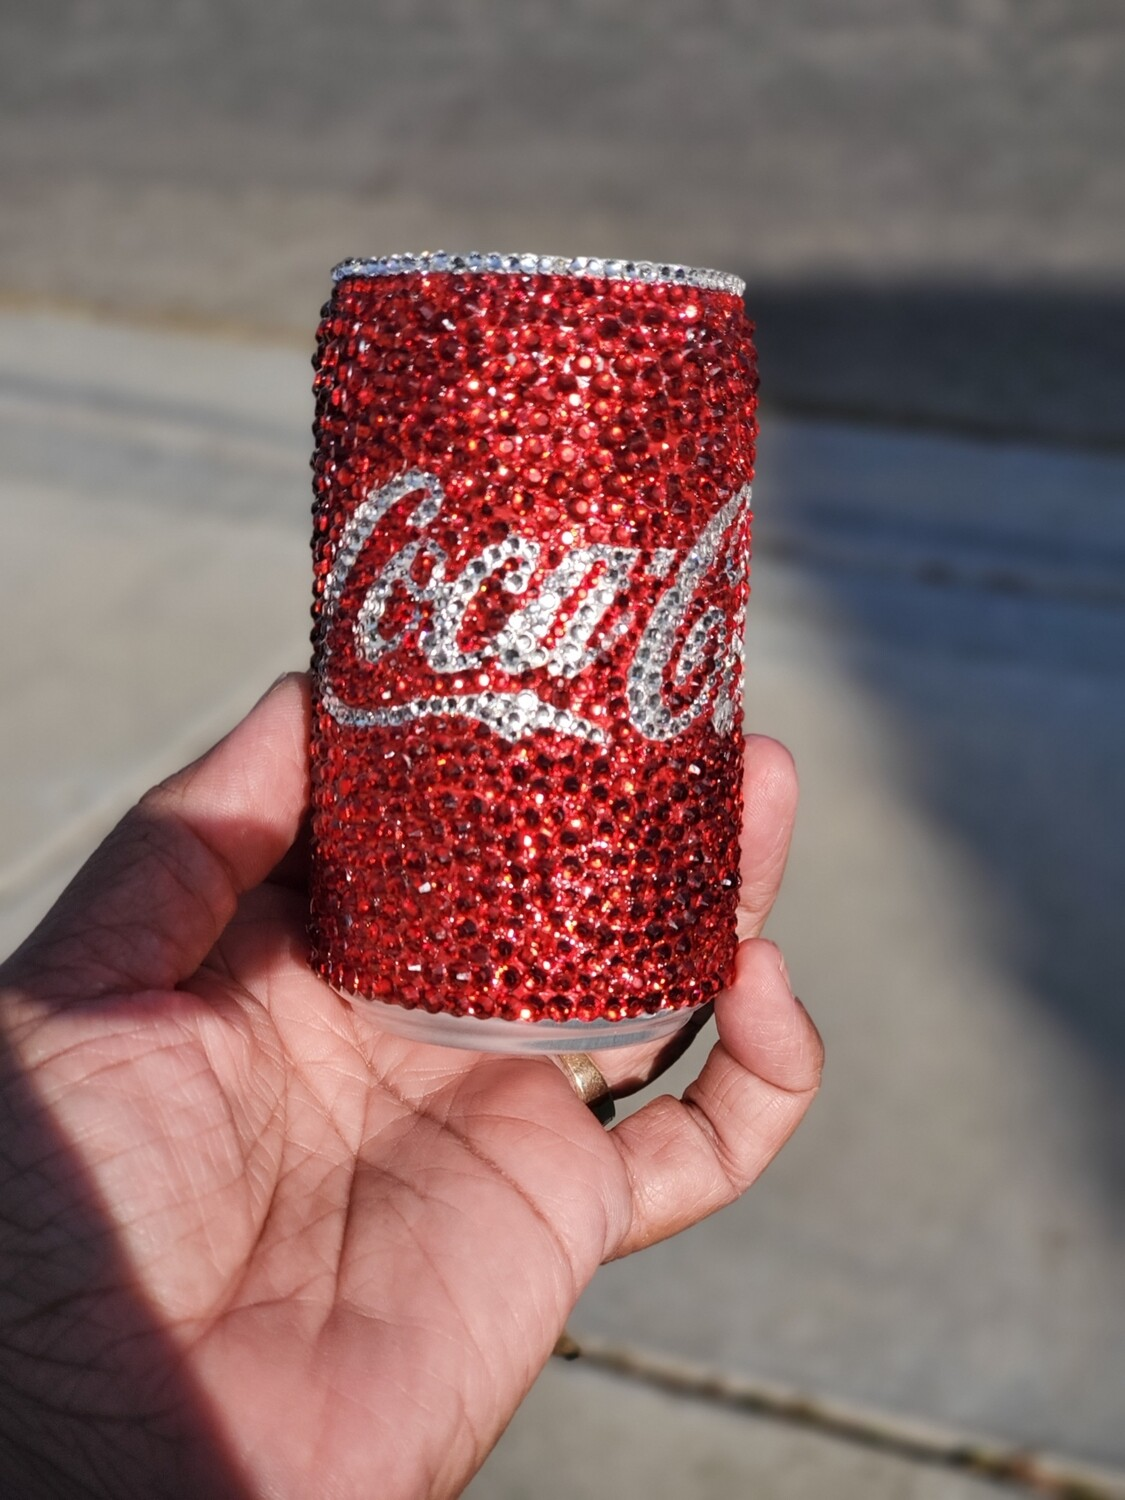Can: (290, 216, 763, 1062)
